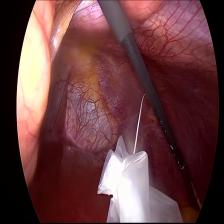Grasper: (180, 160, 204, 215)
Specimen Bag: (94, 134, 185, 224)
